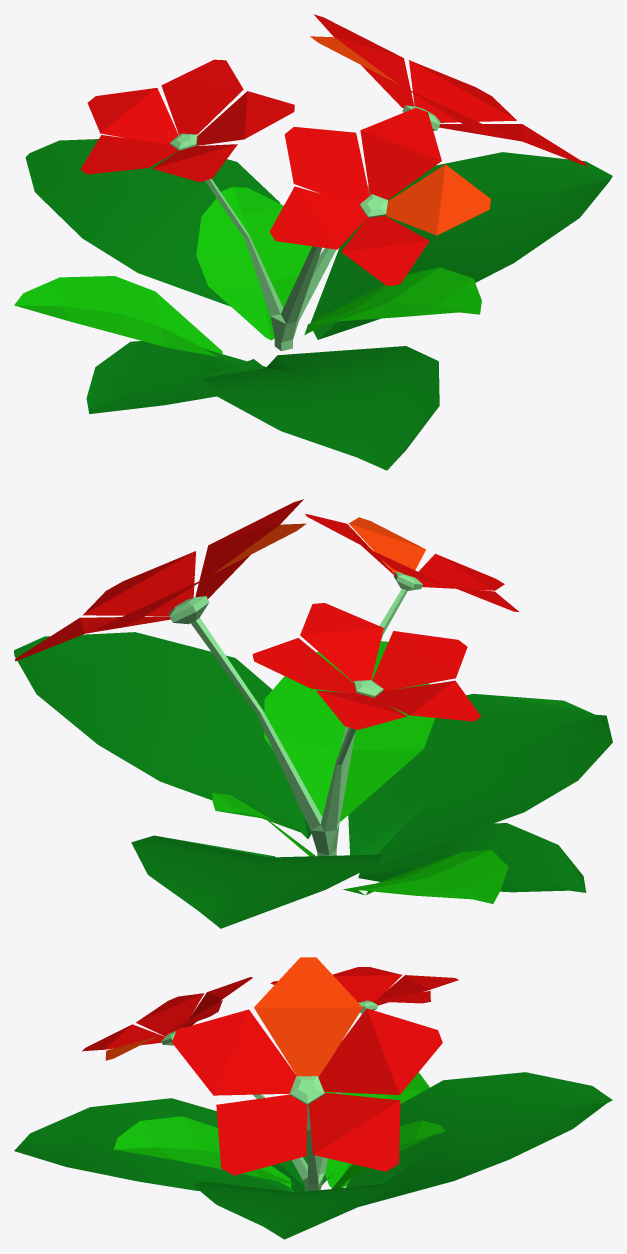
Rendered from flower3.glb.
The picture shows the model from 3 angles, top to bottom: view 1: azimuth 30°, elevation 25°; view 2: azimuth 150°, elevation 25°; view 3: azimuth 270°, elevation 25°; orthographic projection. The views are drawn at different scales.
Visible parts, largest first — view 1: Cube.001_0, Cube.001_5, Cube.001_1, Cube.001_6, Cube.001_4; view 2: Cube.001_0, Cube.001_5, Cube.001_1, Cube.001_4, Cube.001_6; view 3: Cube.001_5, Cube.001_0, Cube.001_6, Cube.001_1, Cube.001_4.
Boxes of the visible parts, x1,y1,x2,y2 form: Cube.001_0: [25, 139, 612, 470]; Cube.001_5: [80, 14, 585, 286]; Cube.001_1: [14, 187, 481, 356]; Cube.001_6: [310, 36, 490, 235]; Cube.001_4: [170, 105, 440, 351]; Cube.001_0: [14, 632, 612, 928]; Cube.001_5: [14, 499, 519, 729]; Cube.001_1: [212, 641, 508, 903]; Cube.001_4: [168, 572, 422, 856]; Cube.001_6: [212, 517, 425, 574]; Cube.001_5: [82, 967, 458, 1175]; Cube.001_0: [14, 1072, 612, 1239]; Cube.001_6: [105, 957, 362, 1076]; Cube.001_1: [113, 1072, 445, 1188]; Cube.001_4: [161, 1000, 377, 1191].
Bounding box in the file's own units: 0.5888 × 0.3414 × 0.6812.
